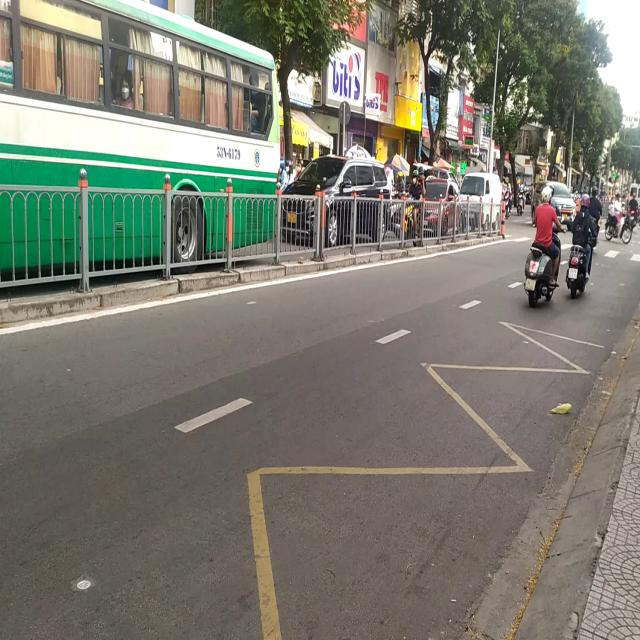bien_trang: (525, 277, 536, 292), (568, 268, 578, 280)
bien_vang: (288, 212, 296, 224)
